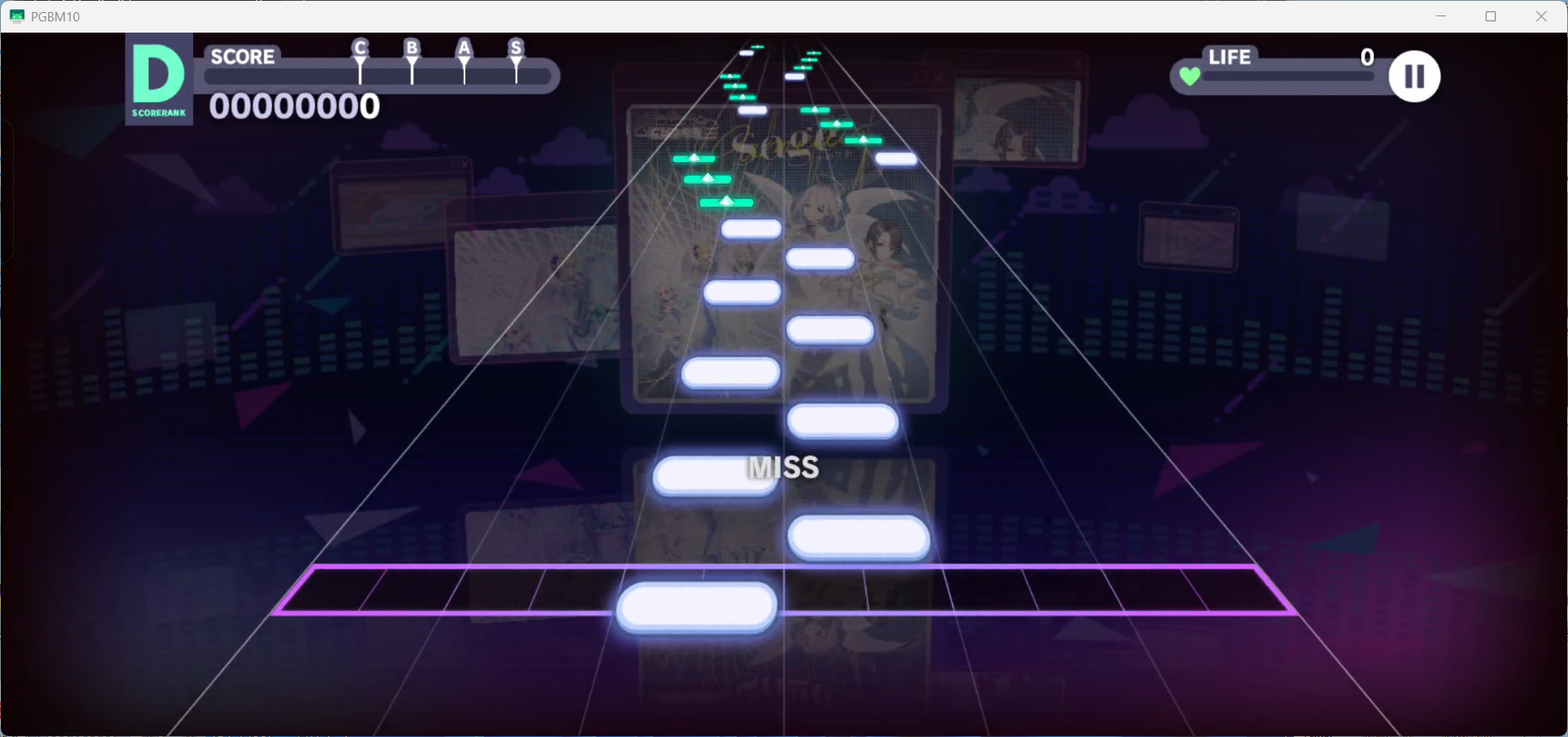sweep: (700, 195, 753, 207), (684, 172, 732, 184), (672, 152, 715, 161), (845, 136, 883, 144), (820, 120, 854, 128), (799, 106, 830, 113), (729, 94, 756, 100), (724, 82, 747, 88), (719, 74, 740, 79), (800, 57, 818, 62), (793, 65, 812, 69), (806, 51, 821, 54), (751, 45, 763, 48)
tap: (616, 582, 777, 632), (787, 516, 930, 560), (653, 456, 779, 496), (787, 403, 898, 438), (682, 357, 780, 391), (787, 314, 874, 346), (703, 279, 781, 306), (786, 246, 855, 272), (721, 219, 781, 239), (874, 152, 916, 166), (738, 105, 767, 114), (784, 73, 805, 80), (739, 50, 753, 55)
